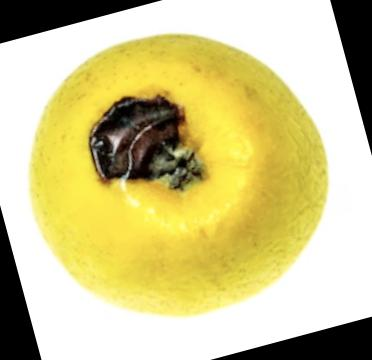Apple: (26, 34, 332, 320)
